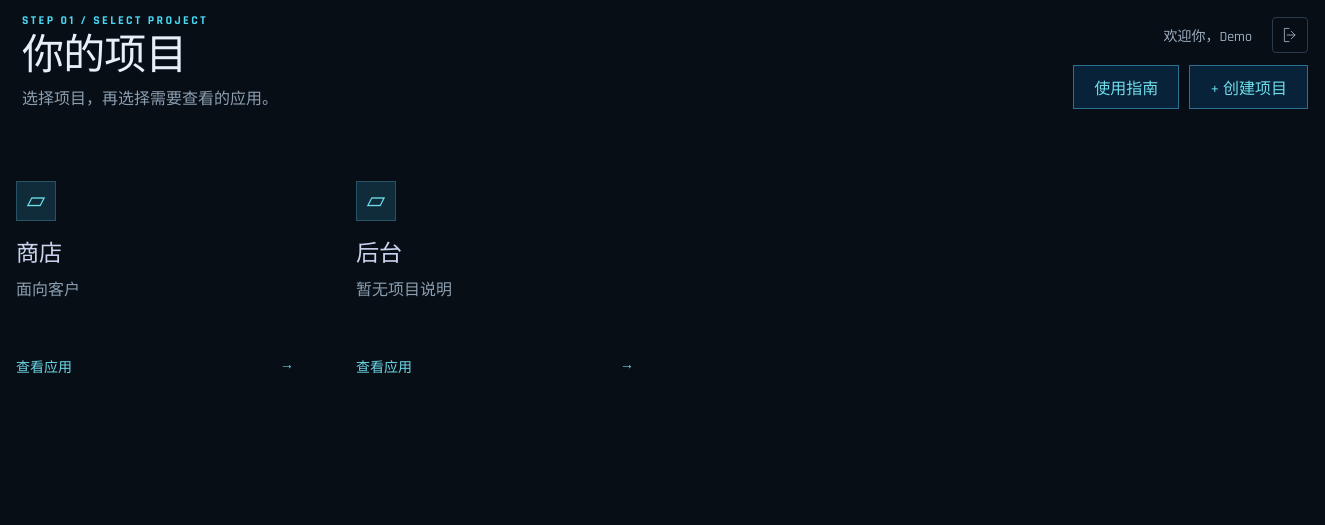
Test: creates an app in the selected project without automatically opening monitoring
Click the button with class "selection-card" showing "▱ 后台 暂无项目说明 查看应用 →": [376, 201] box left=332, top=157, right=658, bottom=401
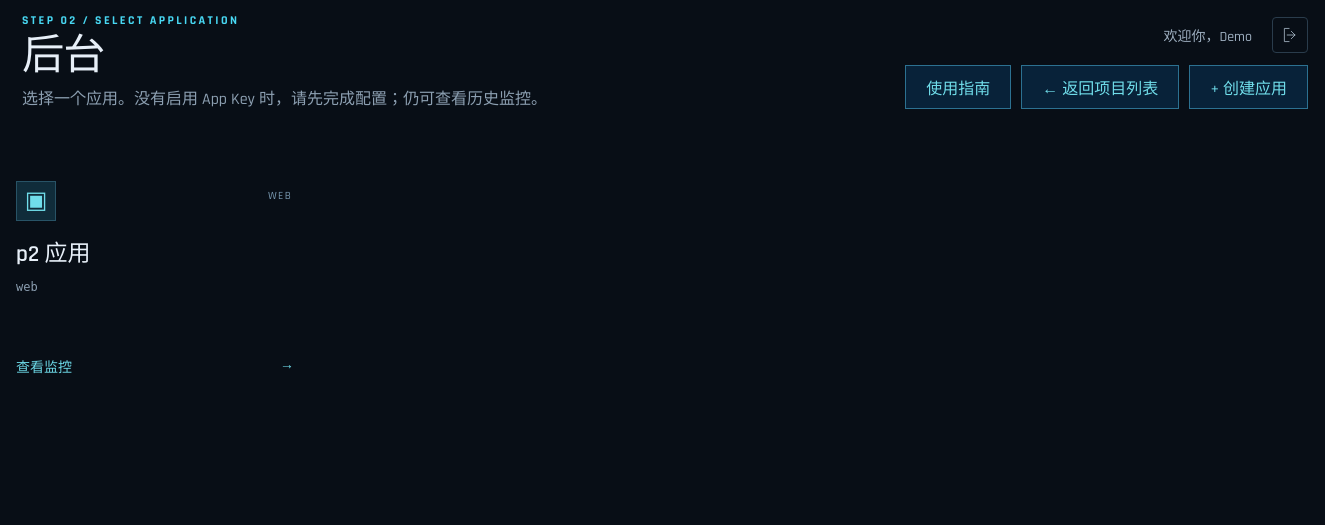
Click the button with class "create-entry-button": [1249, 87] box left=1189, top=65, right=1308, bottom=109
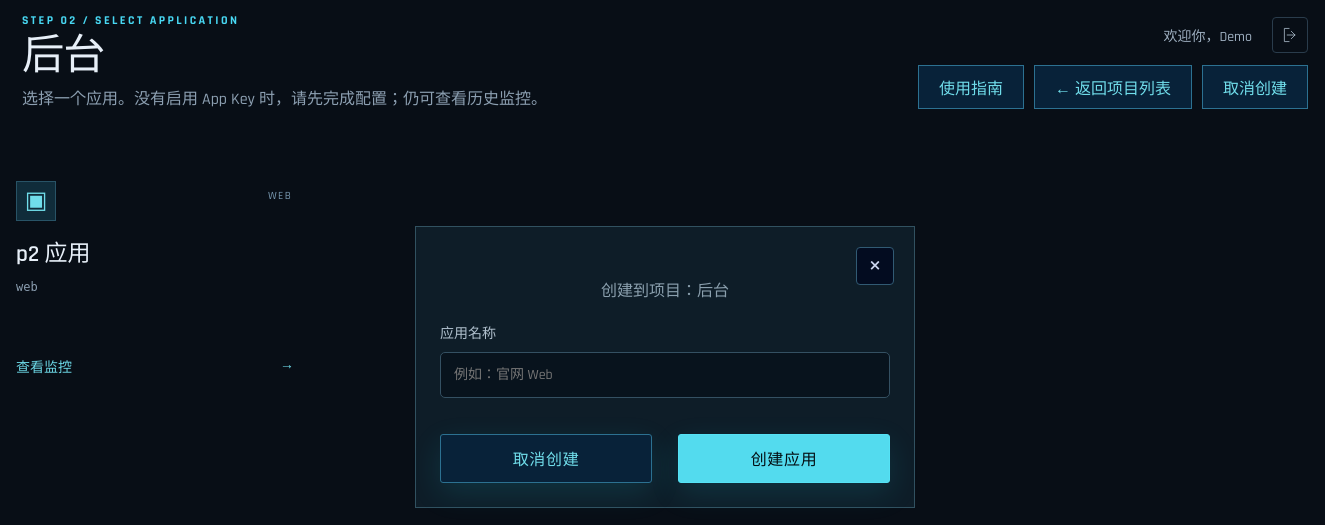
In the field labelled "应用名称": [665, 375] box left=440, top=352, right=890, bottom=398, type "新应用"
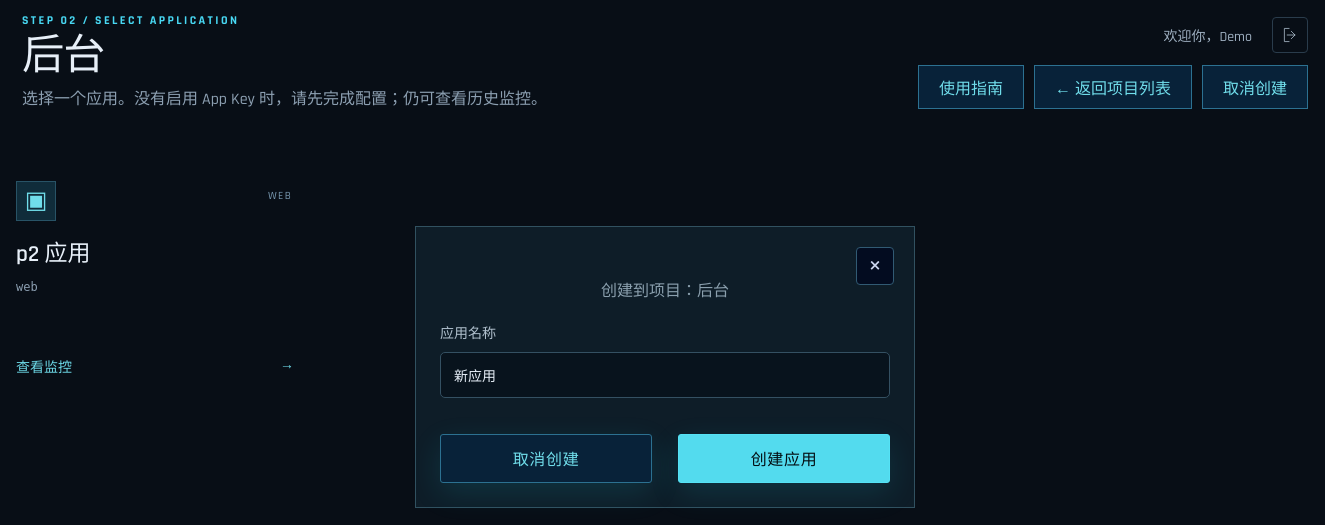
Submit the form with class "entry-form", box left=415, top=226, right=915, bottom=508
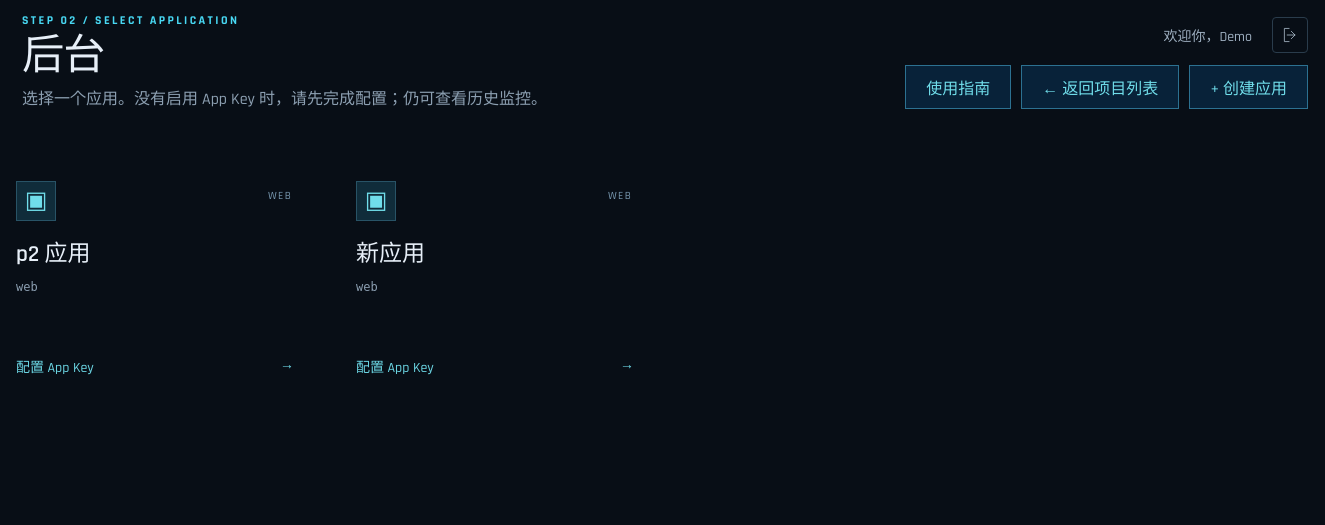
Result: the text "新应用" is shown at left=356, top=241, right=425, bottom=269
